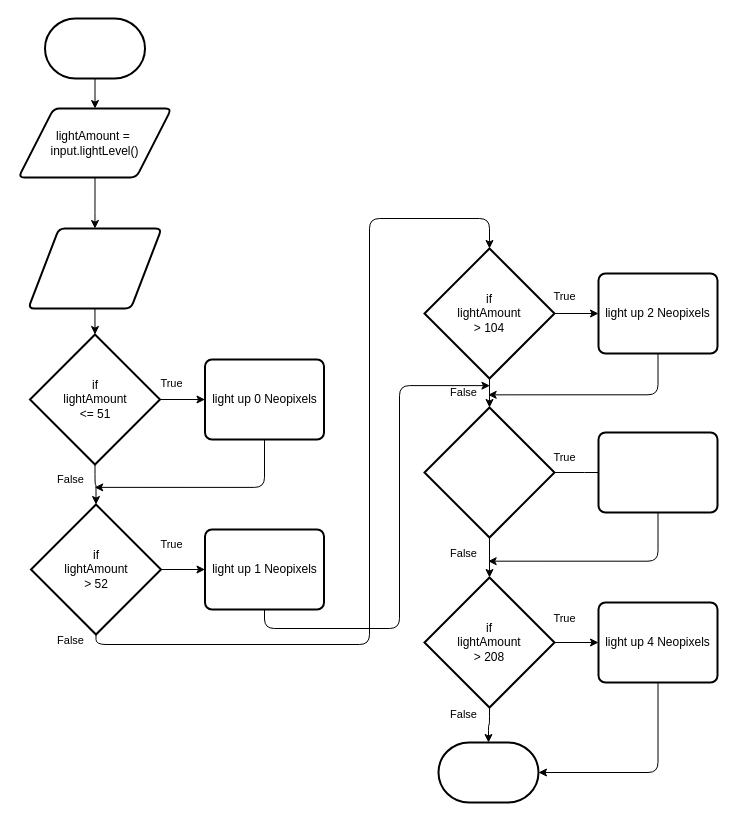
Some shapes in this 735 by 820 pixel diagram are drawn without their labels. Here are the shapes that lost their labels. From the top down, the centre of each, then its label:
the point at 95,48: Start
the point at 94,268: when A button is pressed
the point at 489,472: if lightAmount > 156
the point at 657,472: light up 3 Neopixels
the point at 488,772: Stop
